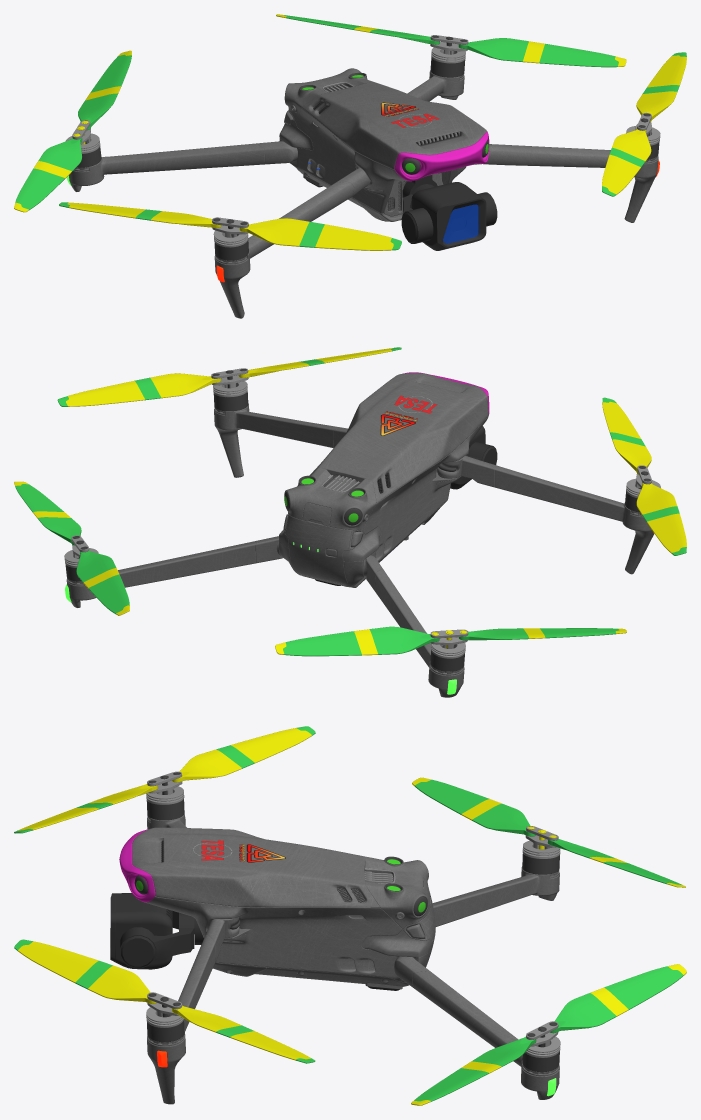
Rendered from tesa-drone.glb.
The picture shows the model from 3 angles, top to bottom: view 1: azimuth 30°, elevation 25°; view 2: azimuth 150°, elevation 25°; view 3: azimuth 270°, elevation 25°; orthographic projection. The views are drawn at different scales.
Visible parts, largest first — view 1: Main body, arms, wing_front_right, wing_back_right, wing_back_left, wing_front_left, Camera.001, Gimbal2; view 2: Main body, arms, wing_back_right, wing_front_left, wing_front_right, wing_back_left, Gimbal2; view 3: Main body, arms, wing_back_left, wing_front_left, wing_front_right, wing_back_right, Camera.001, Gimbal2.
Part boxes in pixels (left/top/right/bottom): Main body: left=279, top=68, right=489, bottom=221; arms: left=66, top=57, right=659, bottom=318; wing_front_right: left=59, top=202, right=401, bottom=250; wing_back_right: left=14, top=50, right=131, bottom=212; wing_back_left: left=276, top=14, right=626, bottom=67; wing_front_left: left=602, top=52, right=686, bottom=196; Camera.001: left=411, top=182, right=486, bottom=250; Gimbal2: left=401, top=184, right=497, bottom=243; Main body: left=279, top=372, right=489, bottom=587; arms: left=65, top=391, right=654, bottom=697; wing_back_right: left=275, top=626, right=626, bottom=658; wing_front_left: left=57, top=347, right=401, bottom=406; wing_front_right: left=602, top=397, right=686, bottom=555; wing_back_left: left=14, top=481, right=129, bottom=615; Gimbal2: left=451, top=442, right=497, bottom=483; Main body: left=119, top=827, right=435, bottom=990; arms: left=146, top=799, right=559, bottom=1104; wing_back_left: left=411, top=964, right=686, bottom=1105; wing_front_left: left=14, top=939, right=315, bottom=1063; wing_front_right: left=14, top=726, right=315, bottom=833; wing_back_right: left=412, top=777, right=685, bottom=887; Camera.001: left=110, top=893, right=172, bottom=969; Gimbal2: left=120, top=911, right=194, bottom=968.
Bounding box in the file's own units: 5.81 × 1.2 × 4.92.
14 materials, 3 textured.
